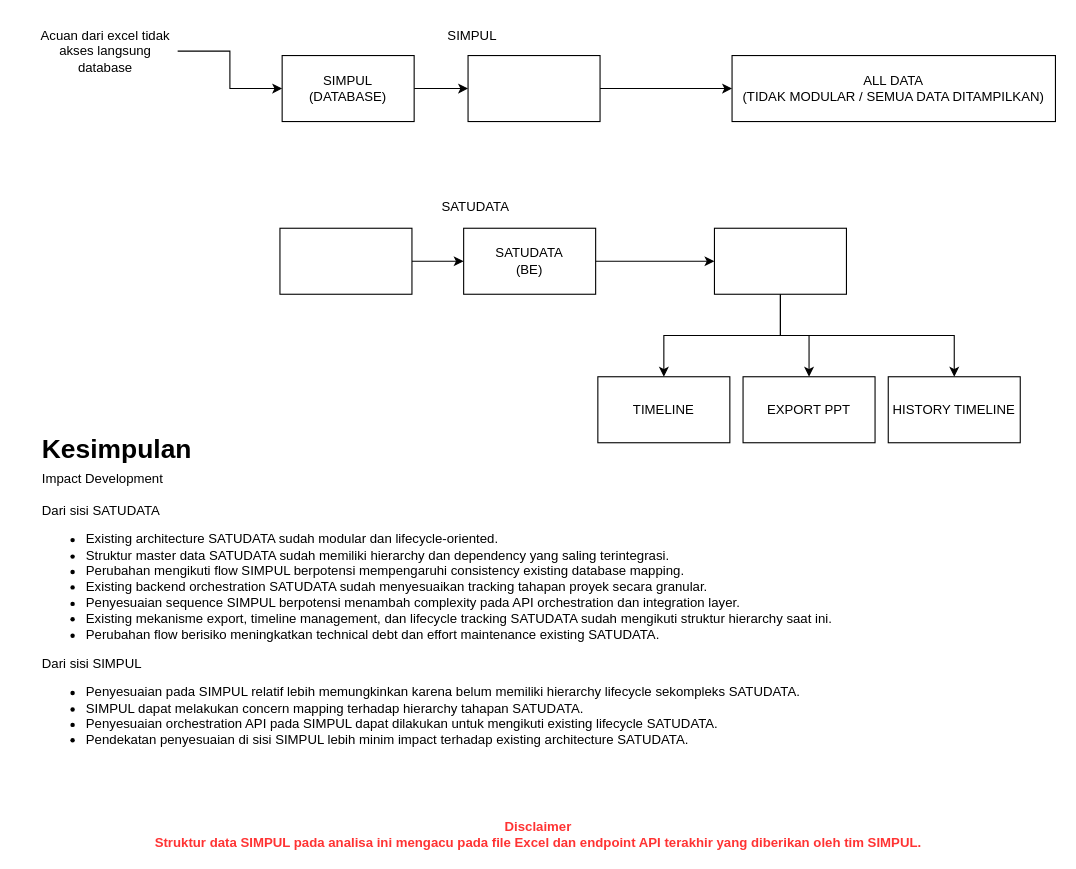
This 1076x869 diagram has some shape labels left out. The shapes that lost their labels are listed below. From the top down, each one's centre as x and y in pixels, then its label:
[533,88]: SIMPUL (BE)
[345,260]: SATUDATA (DATABASE)
[779,260]: SATUDATA (FE)
